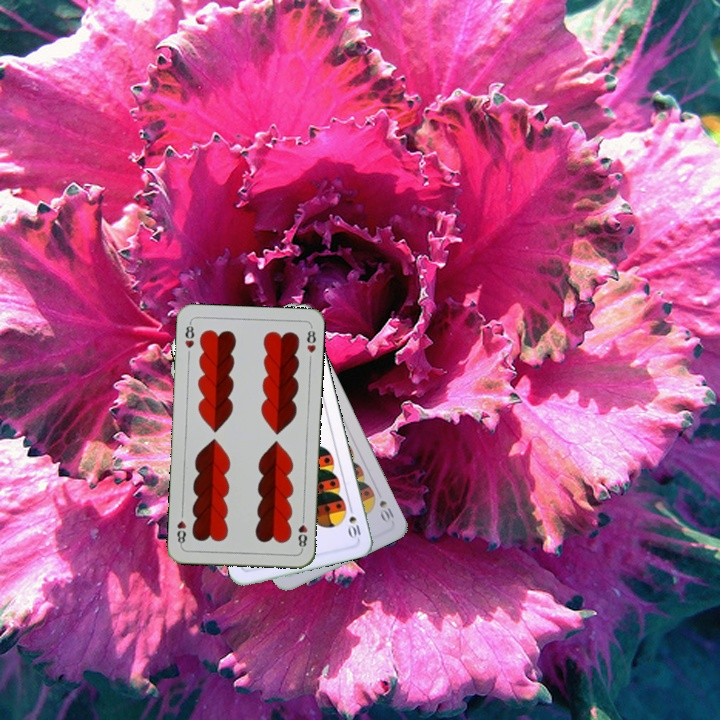H8: (294, 512, 310, 552), (181, 319, 197, 351)
S10: (345, 501, 363, 541), (375, 496, 397, 525)
